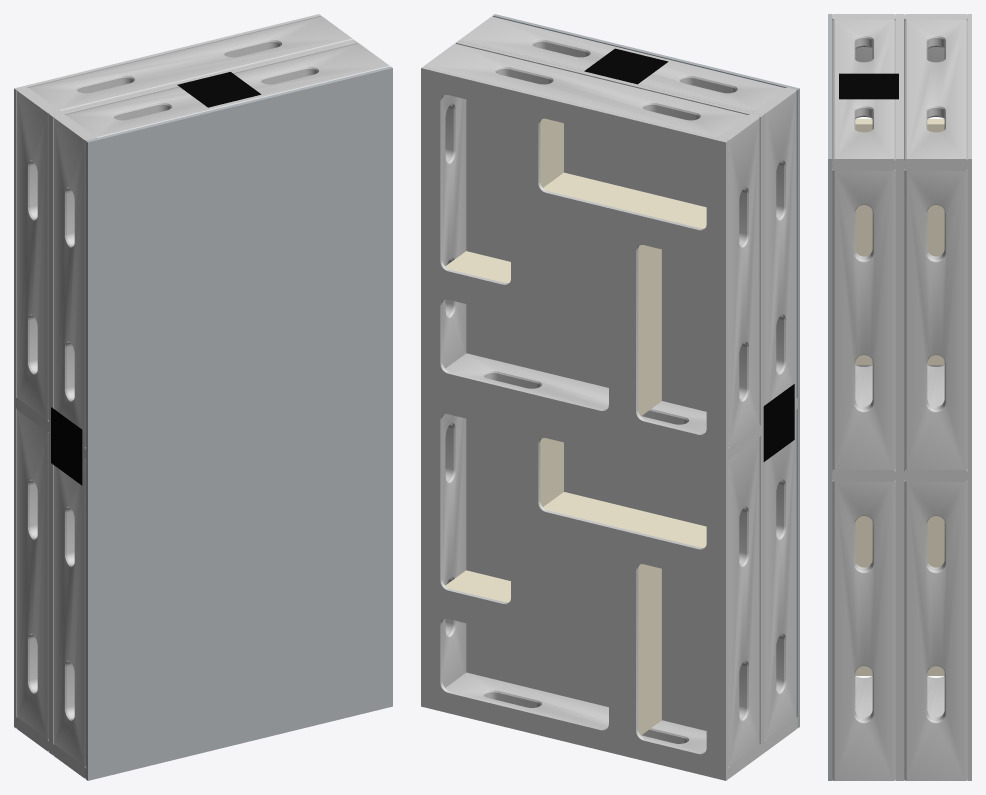
The model's file is 2026_ARC_3v3_side_box.gltf.
The picture shows the model from 3 angles, left to right: view 1: azimuth 30°, elevation 25°; view 2: azimuth 150°, elevation 25°; view 3: azimuth 270°, elevation 25°; orthographic projection. The views are drawn at different scales.
Parts seen in each view (by area): view 1: Surface 507, Surface 516, Platform (×7), Surface 515, Surface 512, April Tag, Surface 510, Surface 519, Surface 518, Surface 517; view 2: Platform (×11), Surface 515, Surface 519, Surface 512, Surface 518, Part 49, Part 47, Part 55, Part 59, Surface 507, April Tag, Surface 510 (+6 smaller); view 3: Platform (×15), Surface 512, Surface 515, Surface 507, Surface 510, Surface 516, Surface 517, Surface 518, Surface 519, Part 35, Part 34, Part 37 (+1 smaller).
Boxes of the visible parts, <box> form: Surface 507: <box>85,66,392,461</box>; Surface 516: <box>85,387,392,780</box>; Platform (×7): <box>17,16,389,766</box>; Surface 515: <box>14,14,321,409</box>; Surface 512: <box>48,39,355,434</box>; April Tag: <box>51,407,82,485</box>; Surface 510: <box>51,41,358,408</box>; Surface 519: <box>14,408,16,728</box>; Surface 518: <box>48,433,50,753</box>; Surface 517: <box>51,463,53,755</box>; Platform (×11): <box>424,16,796,778</box>; Surface 515: <box>421,66,728,461</box>; Surface 519: <box>421,387,728,780</box>; Surface 512: <box>455,41,762,436</box>; Surface 518: <box>466,418,762,755</box>; Part 49: <box>638,564,661,735</box>; Part 47: <box>638,245,661,415</box>; Part 55: <box>543,172,706,228</box>; Part 59: <box>543,492,706,547</box>; Surface 507: <box>492,14,799,409</box>; April Tag: <box>763,384,794,461</box>; Surface 510: <box>458,39,765,434</box>; Platform (×15): <box>832,14,967,780</box>; Surface 512: <box>900,14,904,469</box>; Surface 515: <box>967,14,971,469</box>; Surface 507: <box>828,14,832,469</box>; Surface 510: <box>895,14,899,469</box>; Surface 516: <box>828,470,832,780</box>; Surface 517: <box>895,470,899,780</box>; Surface 518: <box>900,470,904,780</box>; Surface 519: <box>967,470,971,780</box>; Part 35: <box>927,119,944,256</box>; Part 34: <box>855,119,872,256</box>; Part 37: <box>927,516,944,567</box>.
Bounding box in the file's own units: 1 × 2 × 0.4195.
